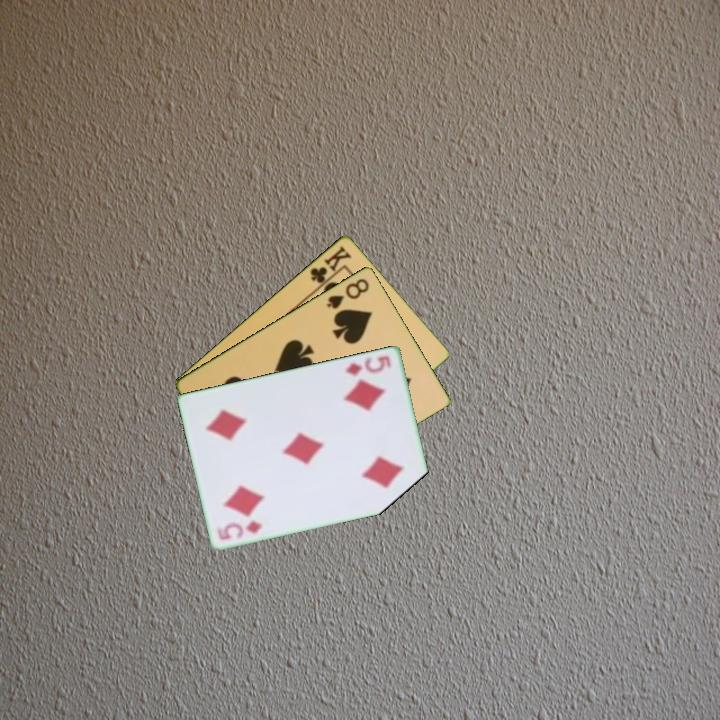5d: (343, 352, 394, 379), (214, 517, 265, 543)
8s: (323, 274, 372, 312)
Kc: (306, 242, 354, 291)
